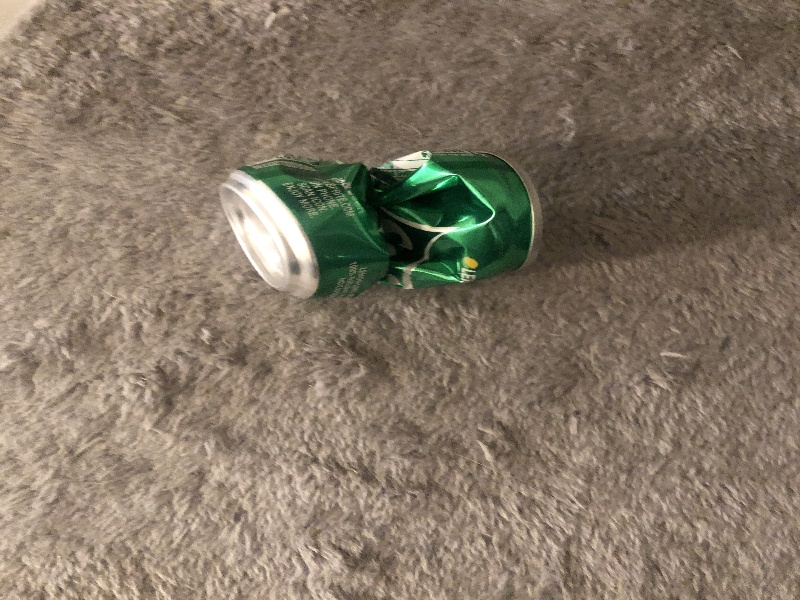metal: (219, 144, 548, 302)
